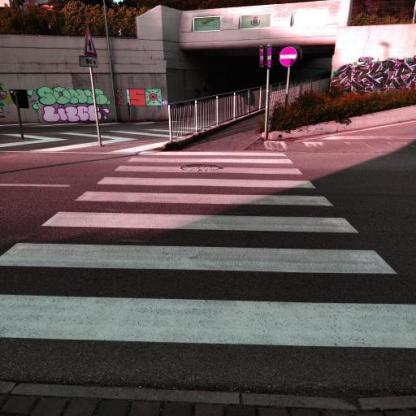crosswalk: (0, 237, 416, 355), (68, 175, 339, 209)
